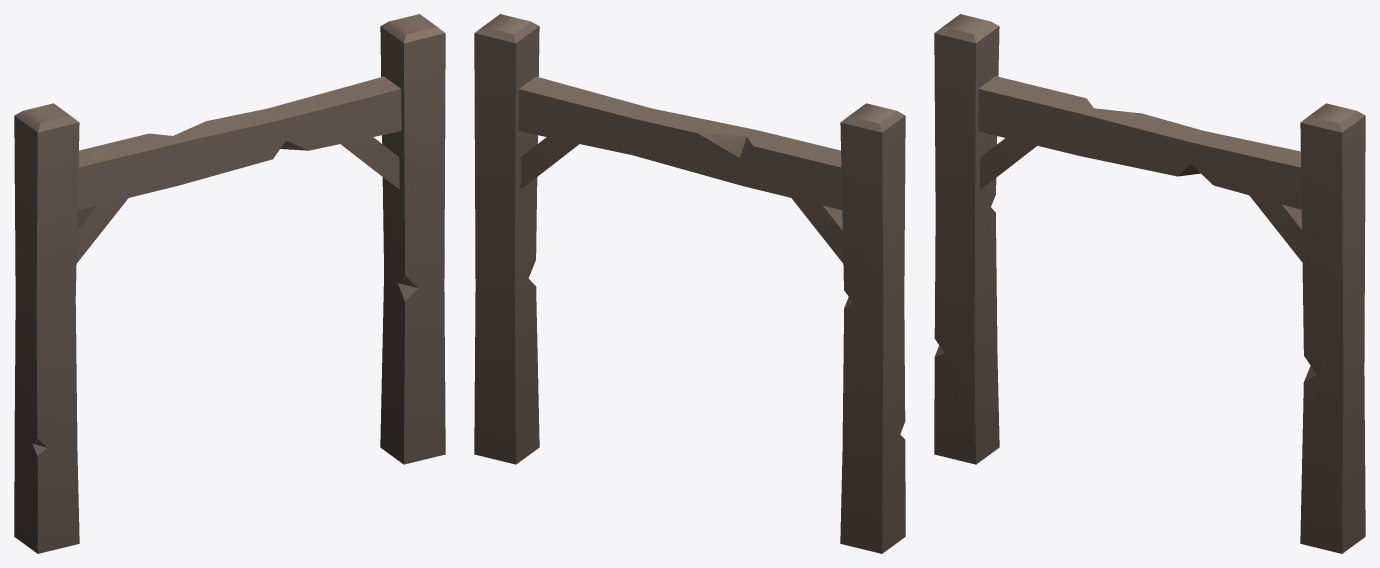
File: wooden_gate.gltf
The picture shows the model from 3 angles, left to right: view 1: azimuth 30°, elevation 25°; view 2: azimuth 150°, elevation 25°; view 3: azimuth 330°, elevation 25°; orthographic projection.
Parts seen in each view (by area): view 1: wooden_gate; view 2: wooden_gate; view 3: wooden_gate.
Part boxes in pixels (<box>): wooden_gate: <box>14,14,445,553</box>; wooden_gate: <box>474,14,905,553</box>; wooden_gate: <box>934,14,1365,553</box>.
Size of the model in its own units: 4 by 4 by 0.4.
Materials: 1 (1 with a texture image).
